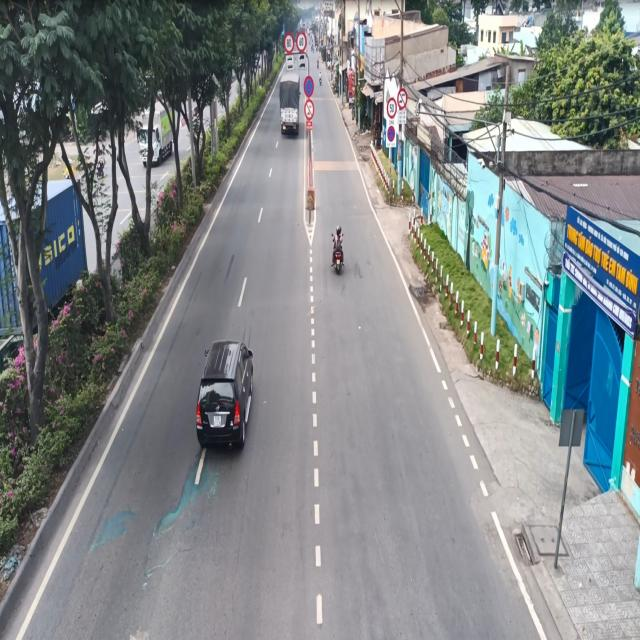car: (192, 326, 260, 470)
motorbike: (329, 220, 347, 280)
truck: (273, 69, 307, 140)
